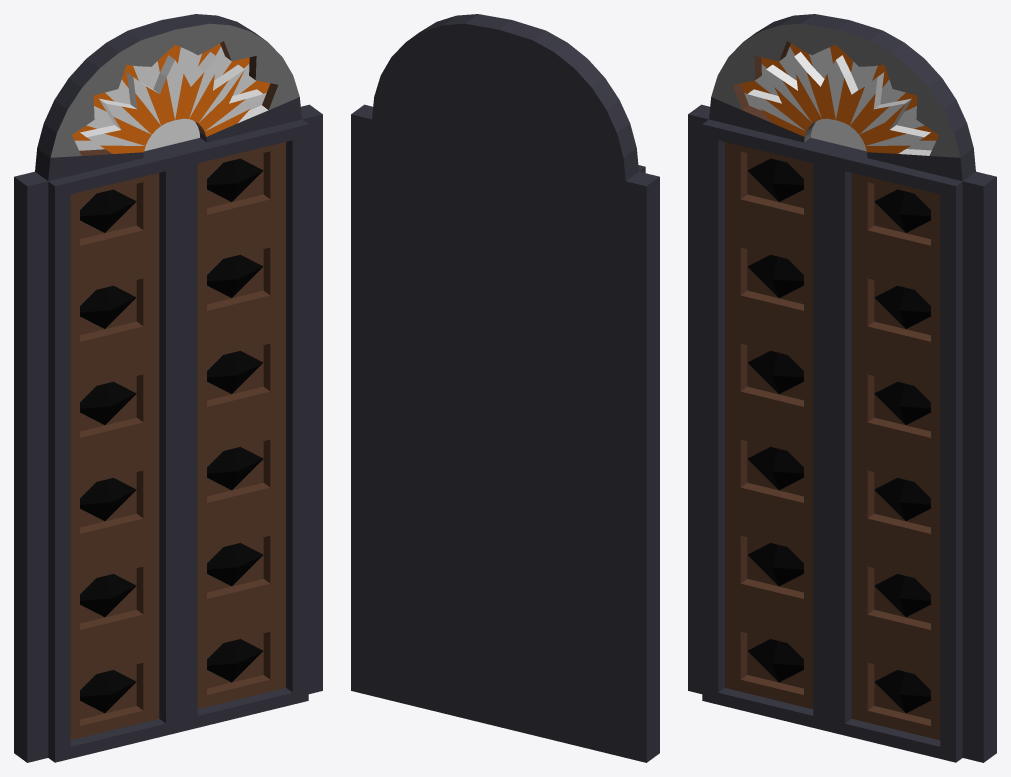
File: puerta1.fbx
3 renders of one model, left to right at view 1: azimuth 30°, elevation 25°; view 2: azimuth 150°, elevation 25°; view 3: azimuth 330°, elevation 25°, orthographic.
Visible parts, largest first — view 1: puerta 1, puerta 2, Marco de la puerta; view 2: puerta 1, puerta 2, Marco de la puerta; view 3: puerta 2, puerta 1, Marco de la puerta.
Part boxes in pixels (x1,y1,x2,y2): puerta 1: (48, 145, 181, 762); puerta 2: (169, 119, 308, 731); Marco de la puerta: (14, 14, 322, 762); puerta 1: (499, 150, 645, 757); puerta 2: (372, 119, 498, 726); Marco de la puerta: (351, 14, 659, 762); puerta 2: (829, 145, 962, 762); puerta 1: (702, 119, 841, 731); Marco de la puerta: (688, 14, 996, 762).
Bounding box in the file's own units: 256 × 578 × 29.94.
